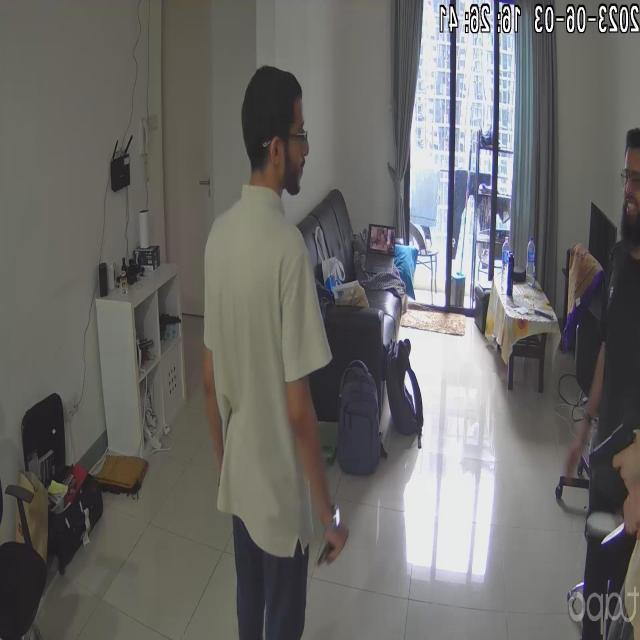Knife: (572, 496, 624, 560)
